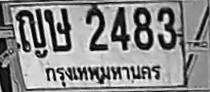2: (85, 5, 106, 50)
3: (157, 6, 176, 49)
4: (110, 6, 128, 49)
8: (133, 6, 152, 49)
A13: (15, 7, 45, 51)
A39: (44, 7, 71, 51)
BKK: (41, 62, 165, 88)
